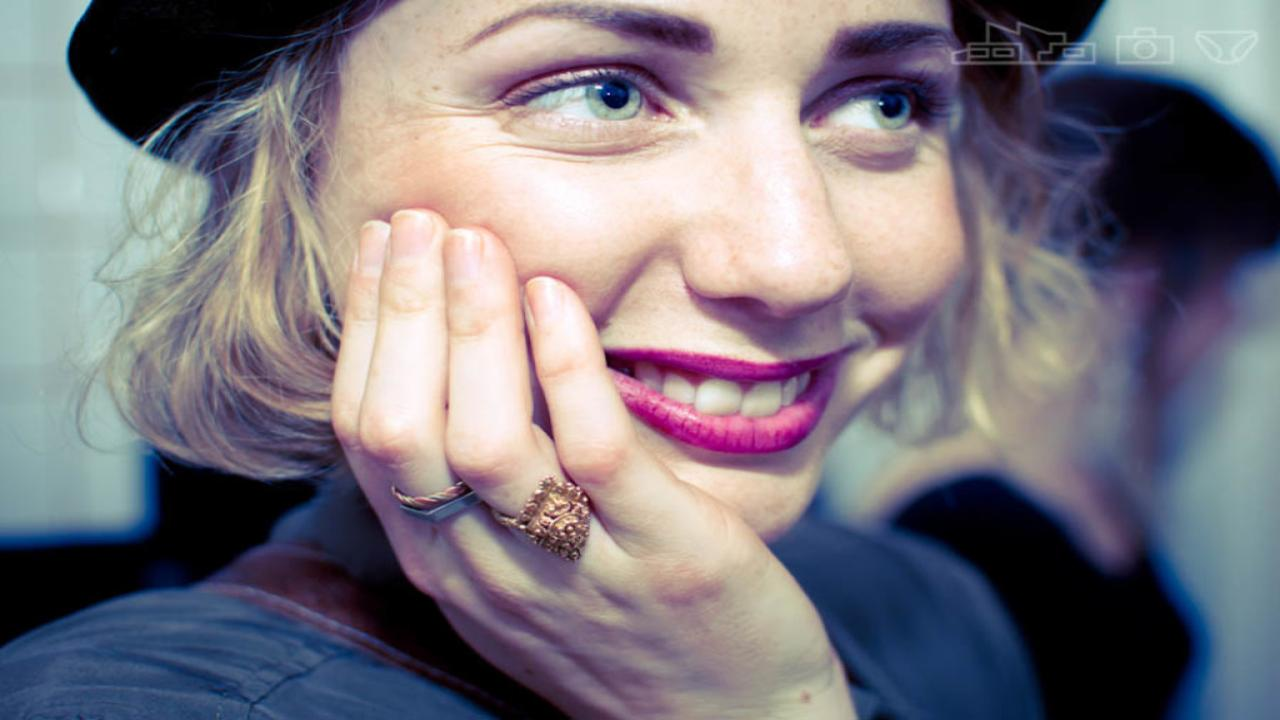ring: (492, 475, 594, 561), (390, 476, 479, 526)
